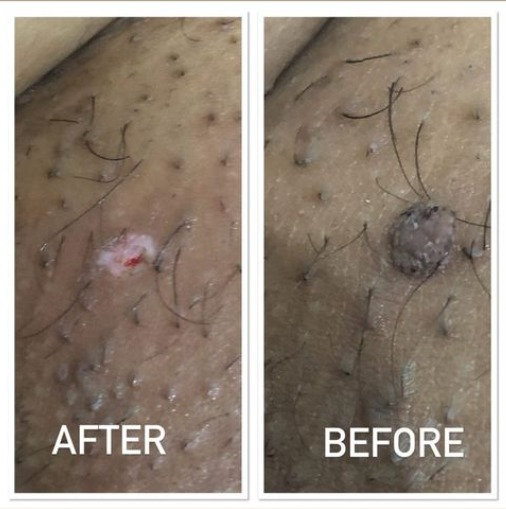Warts: (364, 178, 475, 301), (79, 199, 175, 296)
